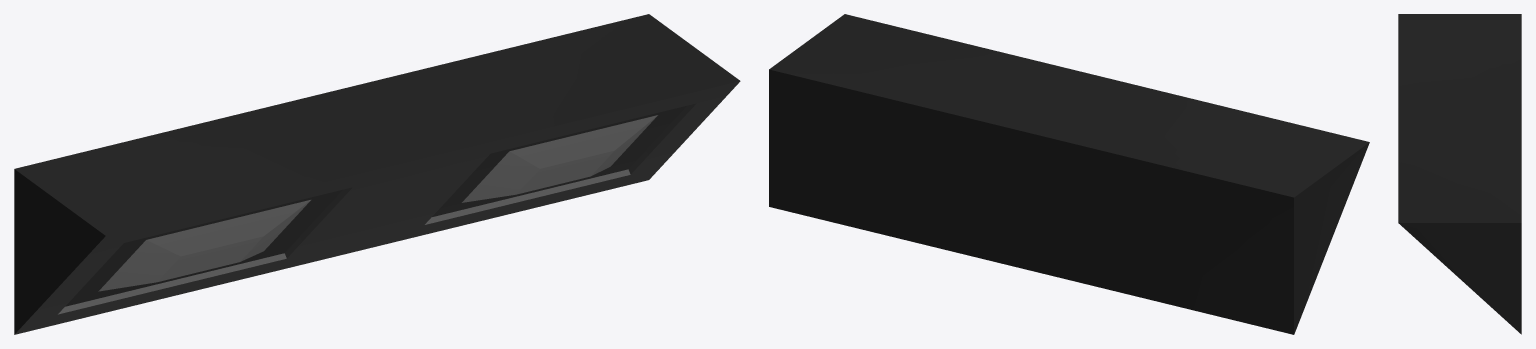
Rendered from StationWallRoofMoulding.fbx.
3 views of the same model, side by side, from view 1: azimuth 30°, elevation 25°; view 2: azimuth 150°, elevation 25°; view 3: azimuth 270°, elevation 25° (orthographic). The views are drawn at different scales.
Visible parts, largest first — view 1: RoofMoulding; view 2: RoofMoulding; view 3: RoofMoulding.
Boxes of the visible parts, x1=… form: RoofMoulding: x1=14, y1=14, x2=740, y2=334; RoofMoulding: x1=769, y1=14, x2=1369, y2=334; RoofMoulding: x1=1398, y1=14, x2=1521, y2=334.
Bounding box in the file's own units: 240 × 60 × 60.
